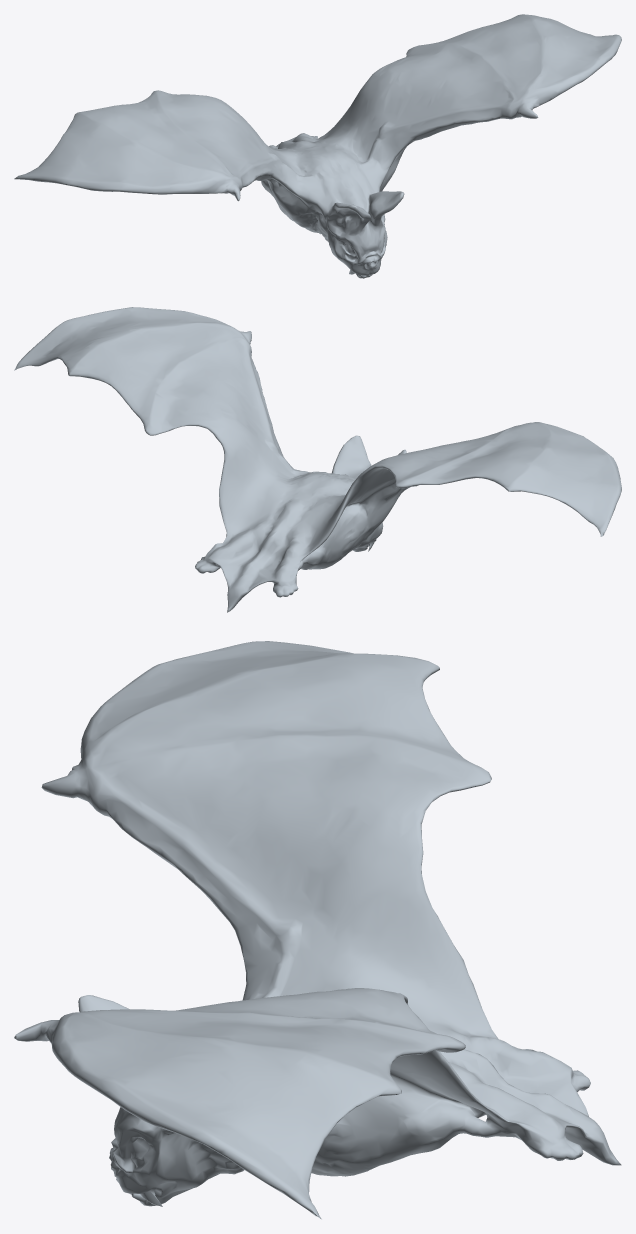
The model's file is giant-bat.glb.
3 views of the same model, one above another, from view 1: azimuth 30°, elevation 25°; view 2: azimuth 150°, elevation 25°; view 3: azimuth 270°, elevation 25° (orthographic). The views are drawn at different scales.
Parts seen in each view (by area): view 1: Giant_Bat_Updated.001; view 2: Giant_Bat_Updated.001; view 3: Giant_Bat_Updated.001.
Boxes of the visible parts, x1,y1,x2,y2 form: Giant_Bat_Updated.001: [14, 14, 621, 278]; Giant_Bat_Updated.001: [14, 307, 621, 612]; Giant_Bat_Updated.001: [14, 641, 621, 1219].
Bounding box in the file's own units: 93.51 × 27.37 × 42.38.
Materials: 1 (1 with a texture image).
